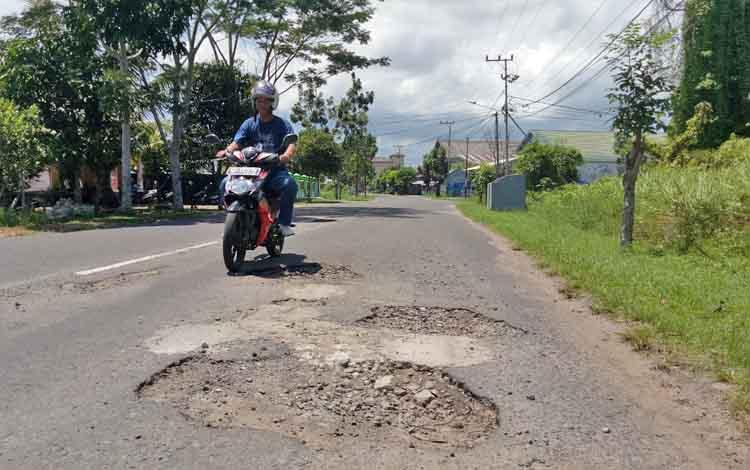Pothole: (128, 343, 509, 458), (223, 238, 394, 312), (356, 298, 548, 360), (20, 255, 178, 303)
